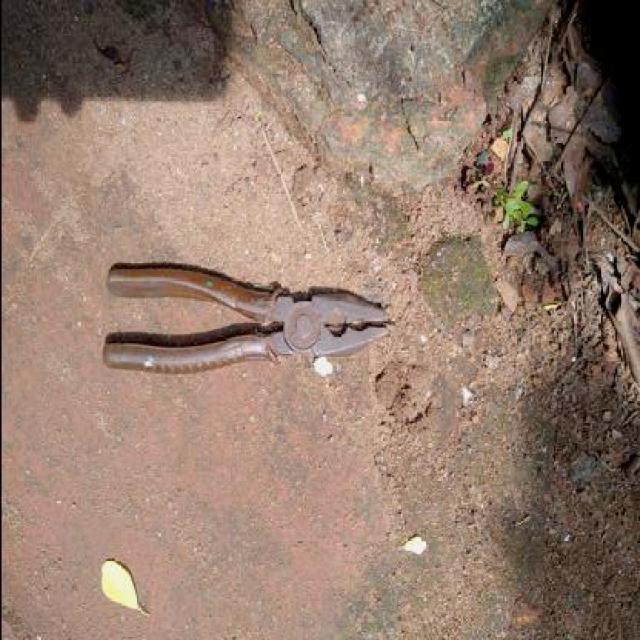pliers: (103, 259, 392, 376)
